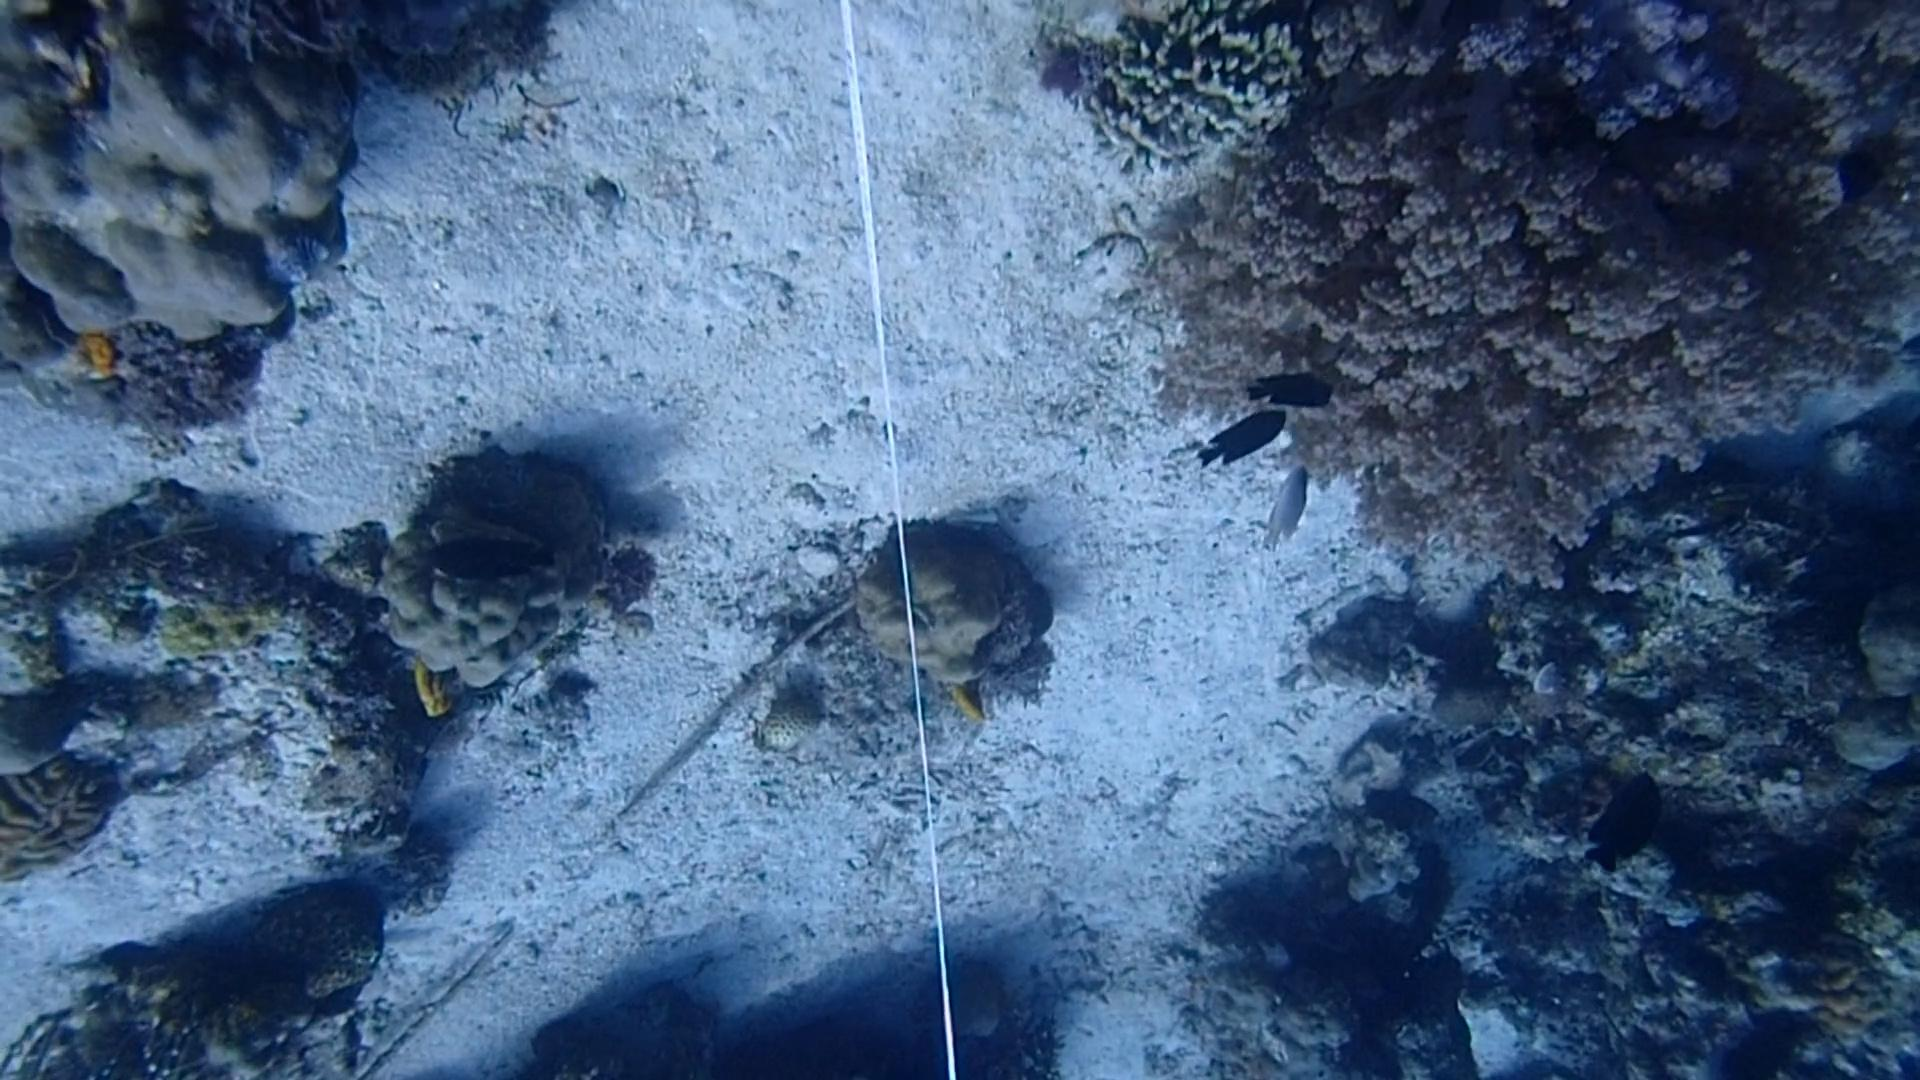Dark Fish: (1577, 760, 1679, 876), (427, 531, 563, 595), (1183, 406, 1292, 473), (1244, 360, 1342, 418), (1830, 125, 1908, 196)
Light Fish: (1249, 458, 1321, 556)
